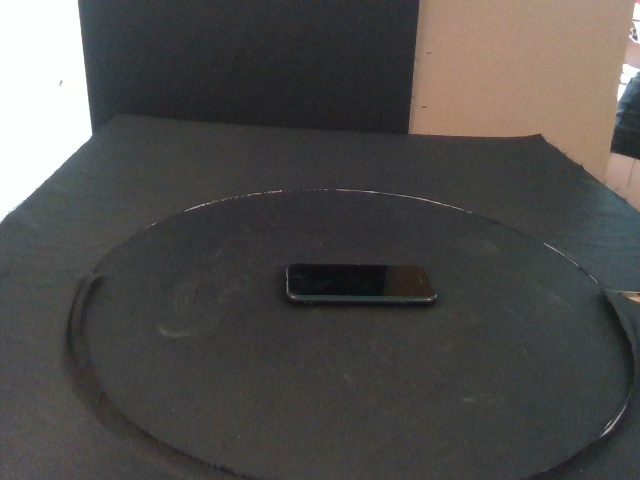phone: (284, 261, 437, 305)
